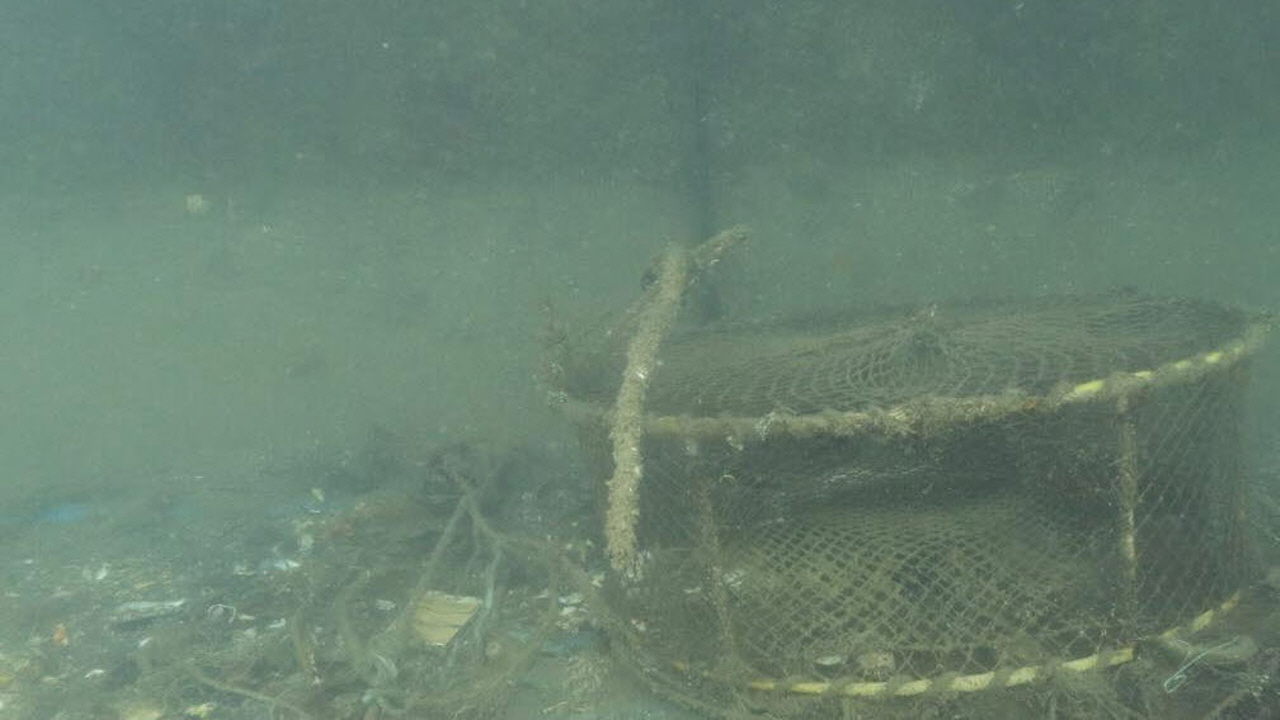circular fish trap: (530, 285, 1273, 697)
rope: (593, 182, 729, 626)
